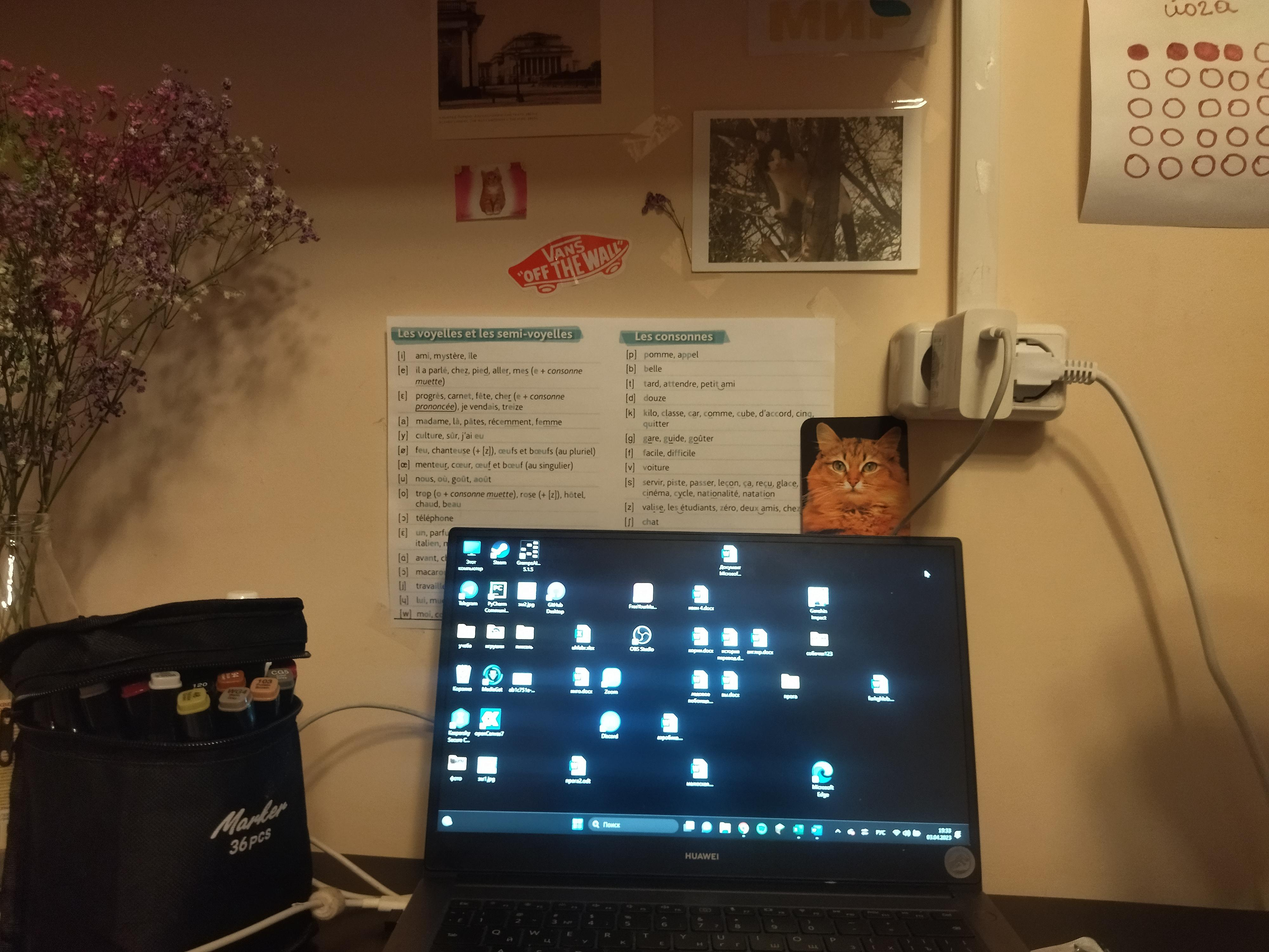monitor: (420, 519, 991, 904)
